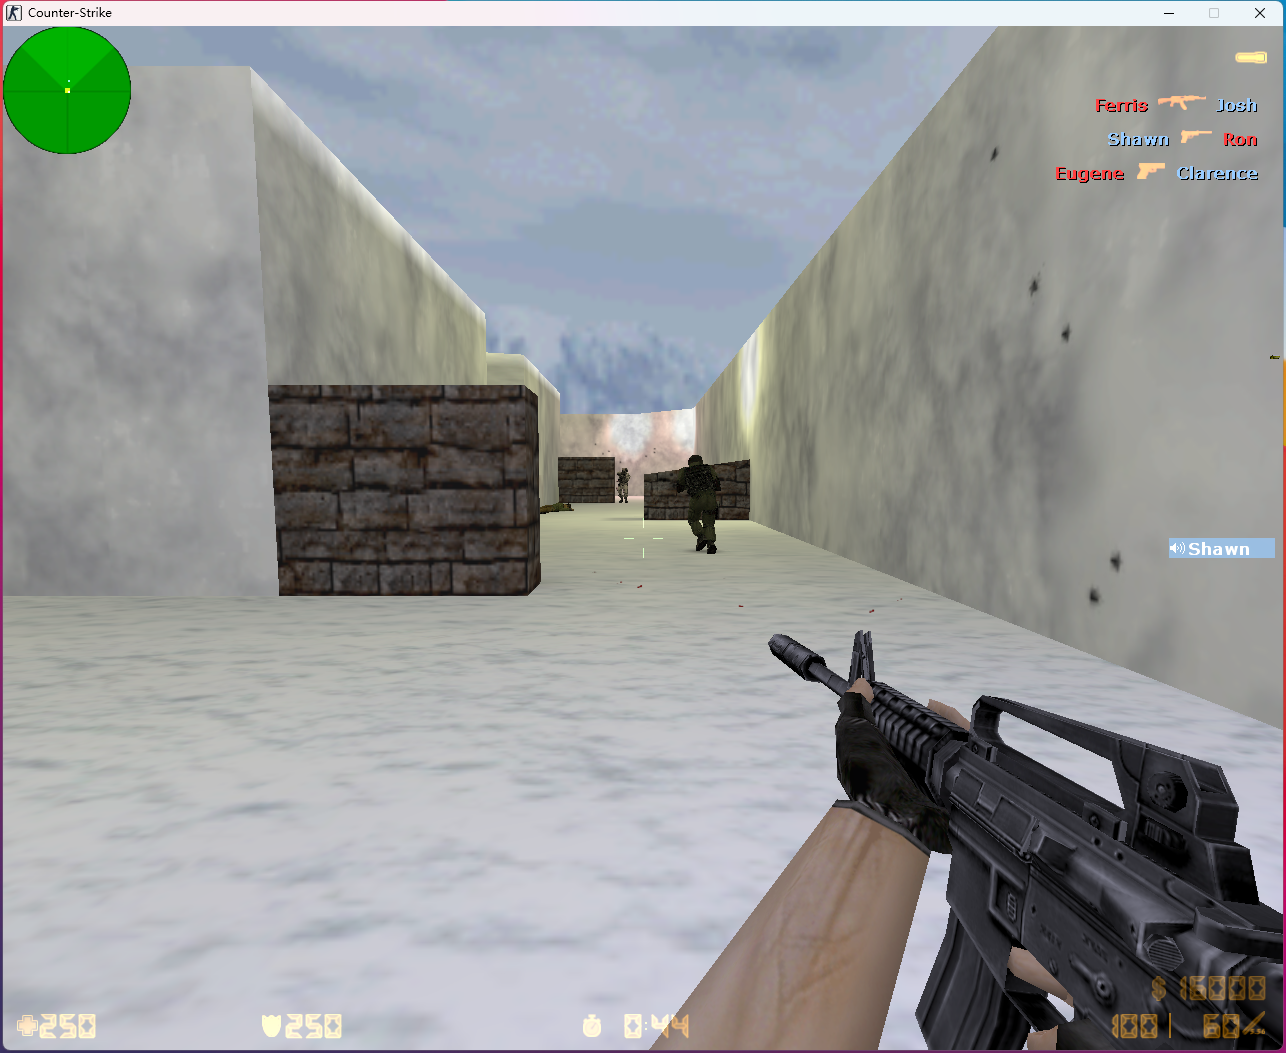C: (677, 450, 727, 556)
T: (613, 468, 634, 505)
dead: (537, 498, 570, 518)
